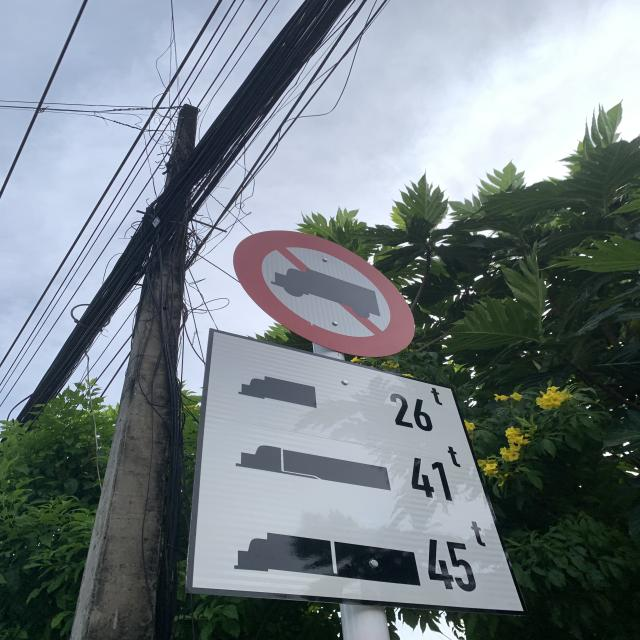Cam_Xe_Tai: (234, 230, 416, 356)
